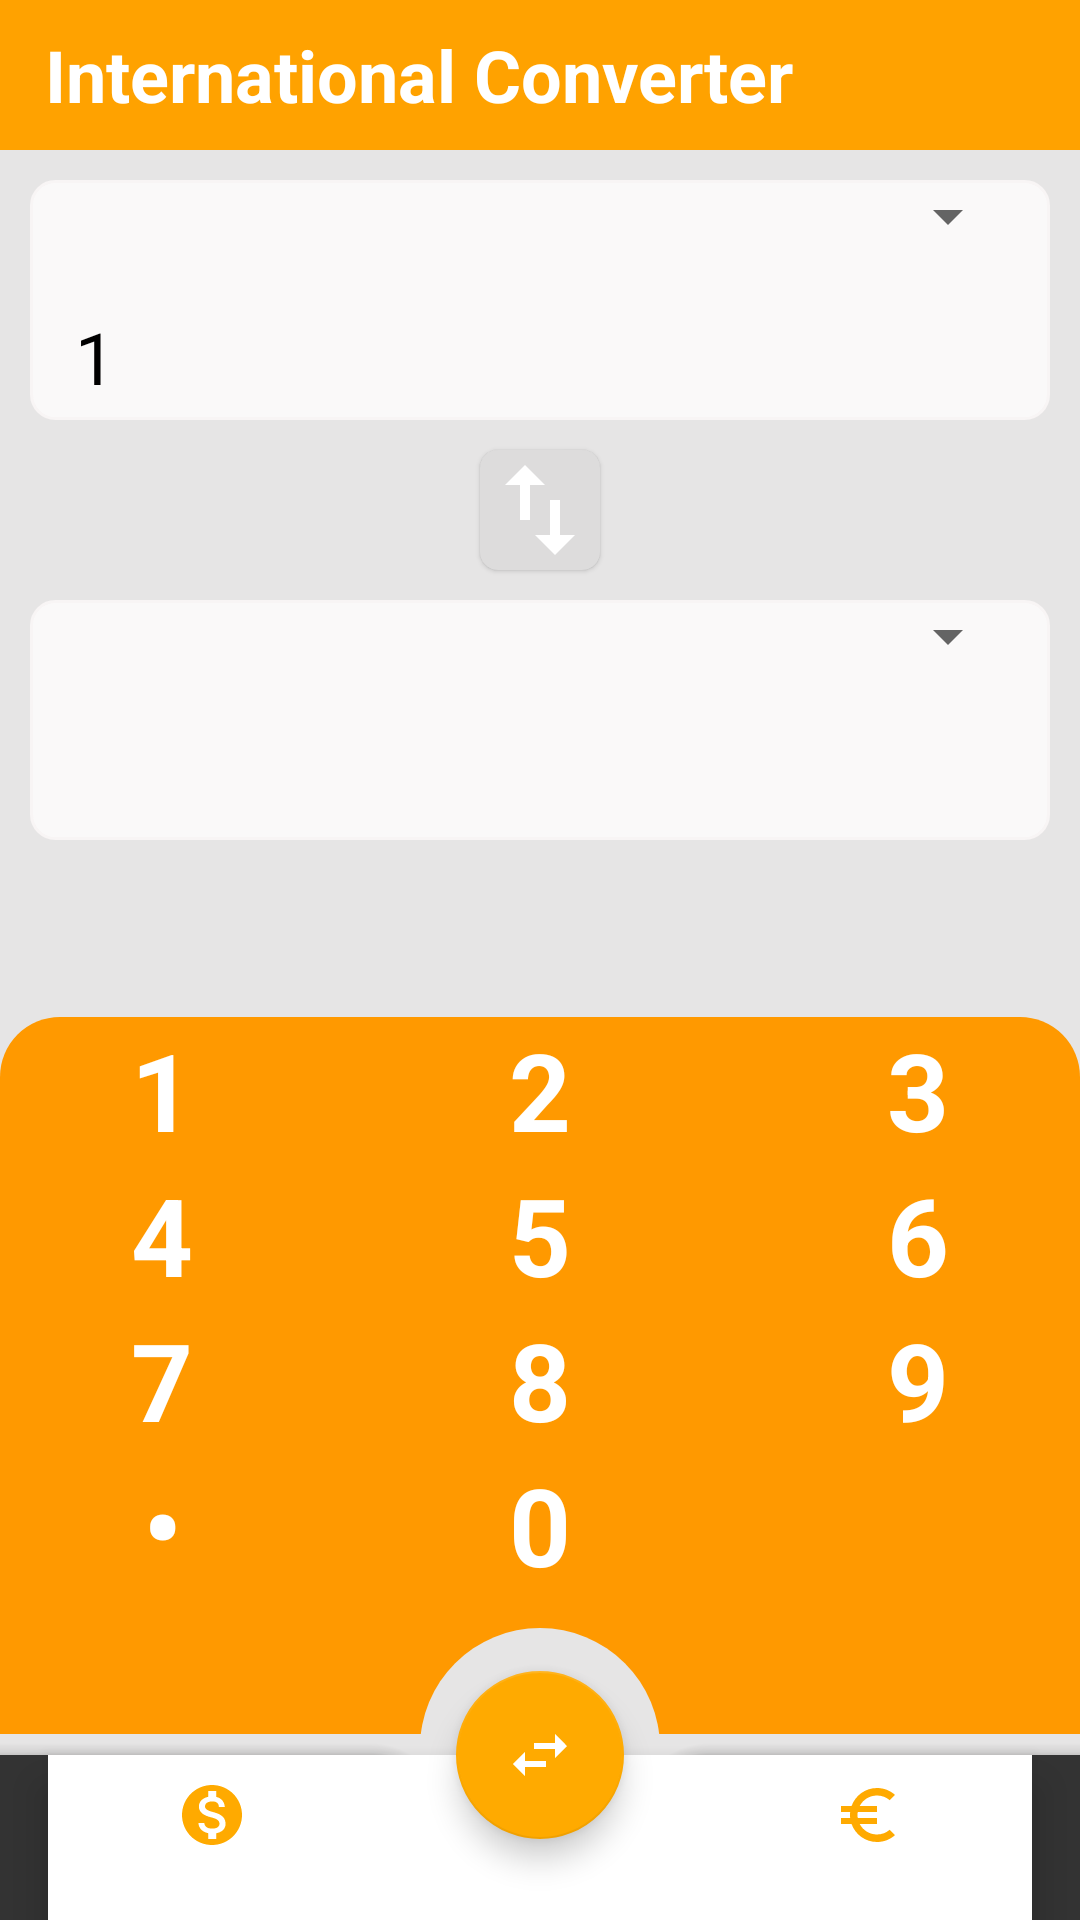

Where to tap for icons on this 1080w x 1920h app screen, as (x=x, y=y):
convert: (x=540, y=1755)
import export: (x=540, y=510)
